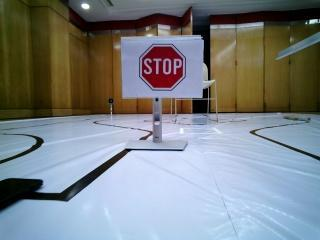stop: (132, 38, 195, 94)
